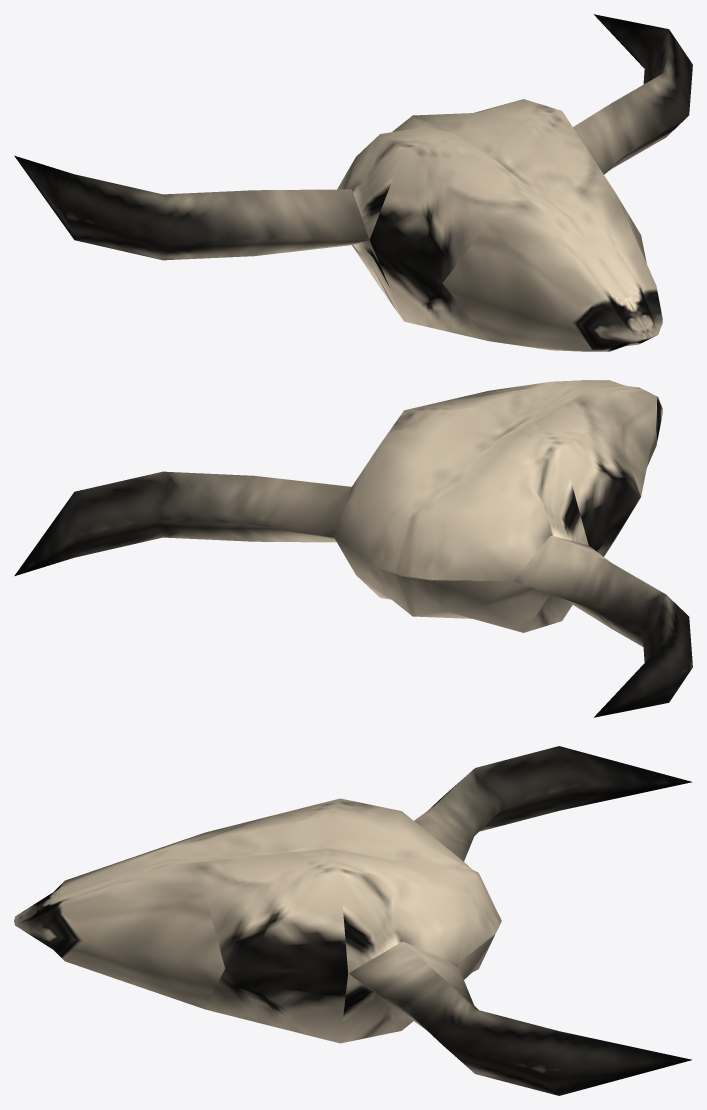
Rendered from des_cattle_skull.fbx.
The picture shows the model from 3 angles, top to bottom: view 1: azimuth 30°, elevation 25°; view 2: azimuth 150°, elevation 25°; view 3: azimuth 270°, elevation 25°; orthographic projection.
Visible parts, largest first — view 1: cattle_skull; view 2: cattle_skull; view 3: cattle_skull.
Part boxes in pixels (x1,y1,x2,y2): cattle_skull: [14, 14, 692, 351]; cattle_skull: [14, 380, 692, 717]; cattle_skull: [14, 746, 692, 1095].
Size of the model in its own units: 131 by 36.03 by 125.
Materials: 1 (1 with a texture image).
